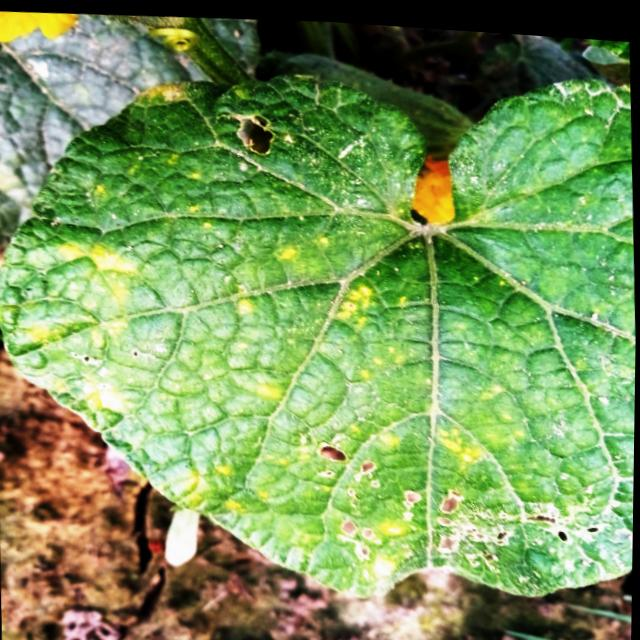Downy-Mildew: (0, 70, 636, 583)
